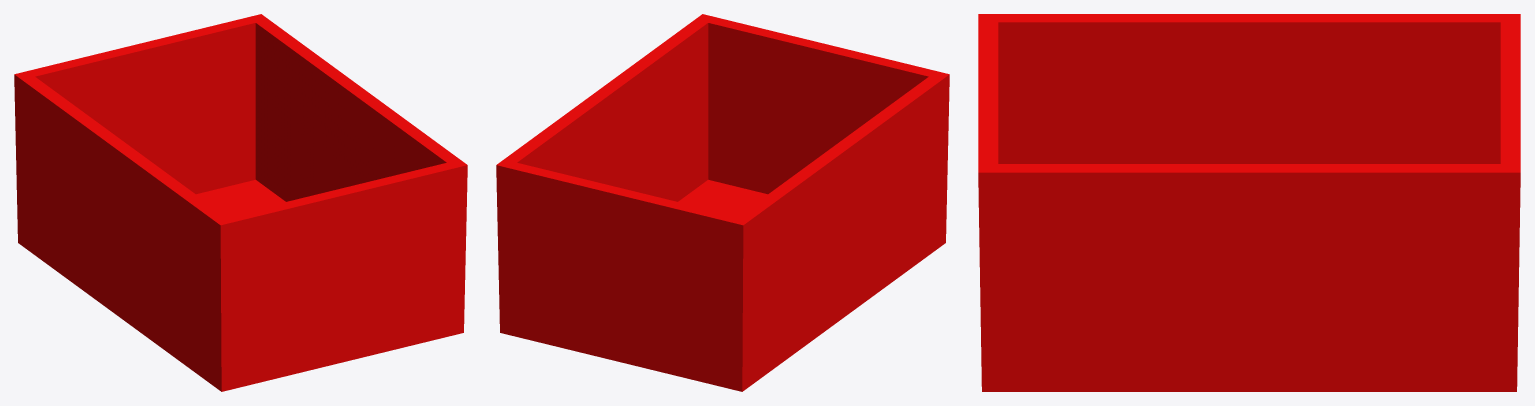
The model's file is Box_red.gltf.
3 views of the same model, side by side, from view 1: azimuth 30°, elevation 25°; view 2: azimuth 150°, elevation 25°; view 3: azimuth 270°, elevation 25° (orthographic). The views are drawn at different scales.
Parts seen in each view (by area): view 1: Box_red; view 2: Box_red; view 3: Box_red.
Boxes of the visible parts, x1=… form: Box_red: x1=14, y1=14, x2=467, y2=391; Box_red: x1=496, y1=14, x2=949, y2=391; Box_red: x1=978, y1=14, x2=1520, y2=391.
Bounding box in the file's own units: 13.23 × 8.6 × 19.13.
